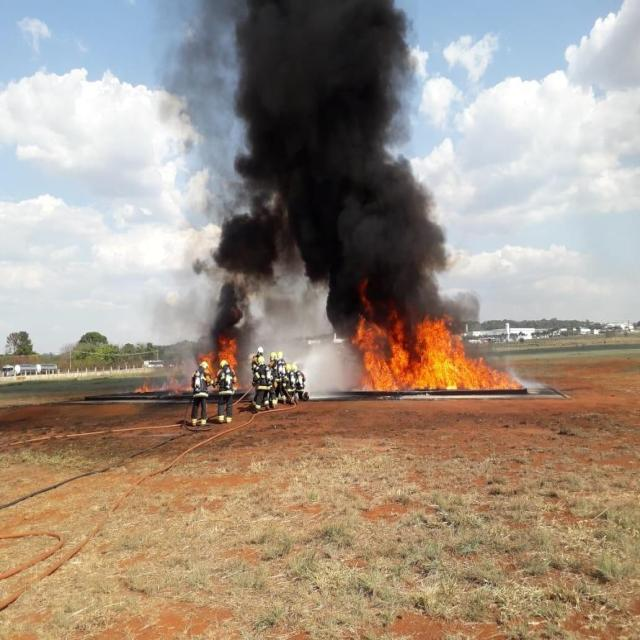Fire: (352, 307, 515, 396), (215, 338, 240, 363), (202, 353, 215, 376), (135, 383, 151, 394)
